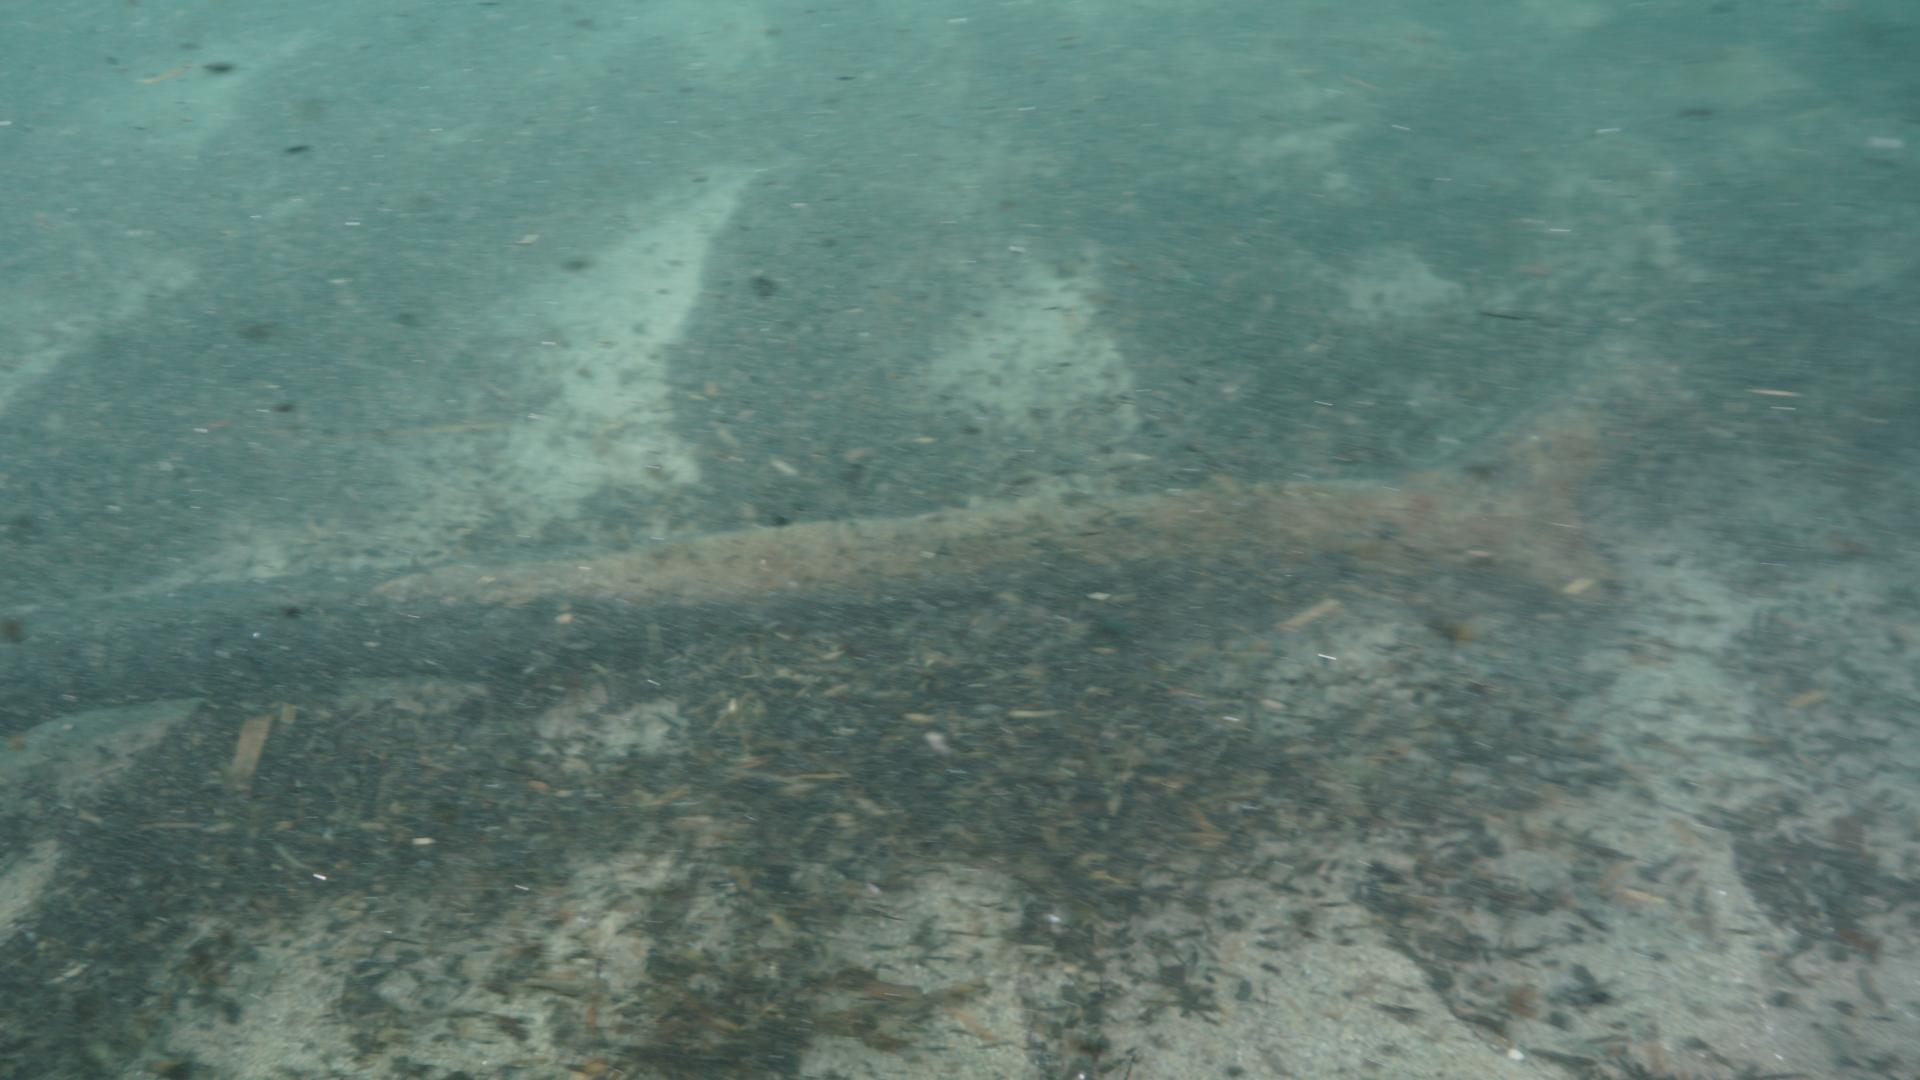wood: (0, 320, 1687, 741)
